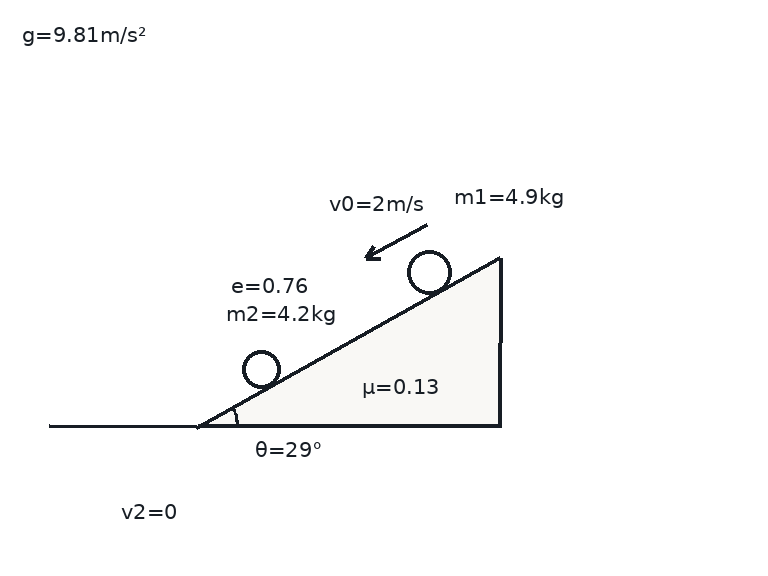ball: (405, 248, 453, 296), (240, 348, 282, 390)
ramp: (195, 256, 502, 428)
